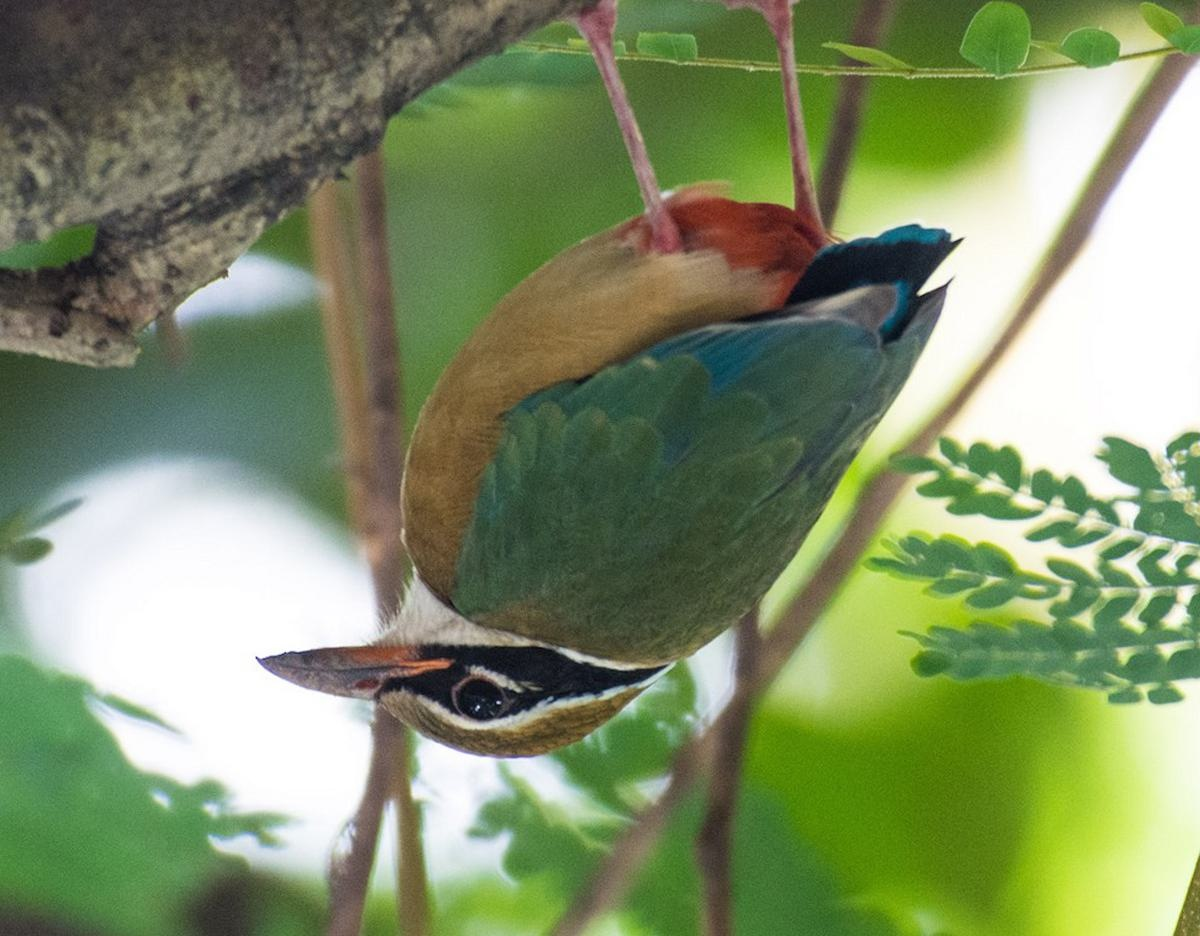pitta: (238, 78, 912, 772)
